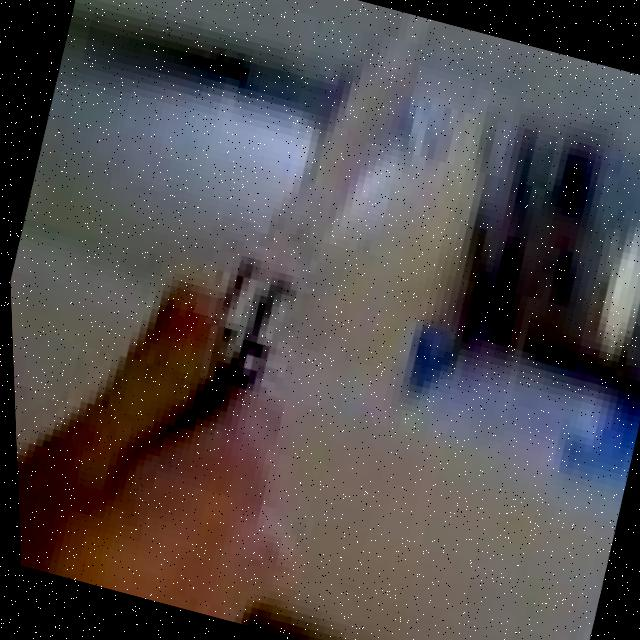knife: (214, 0, 453, 382)
